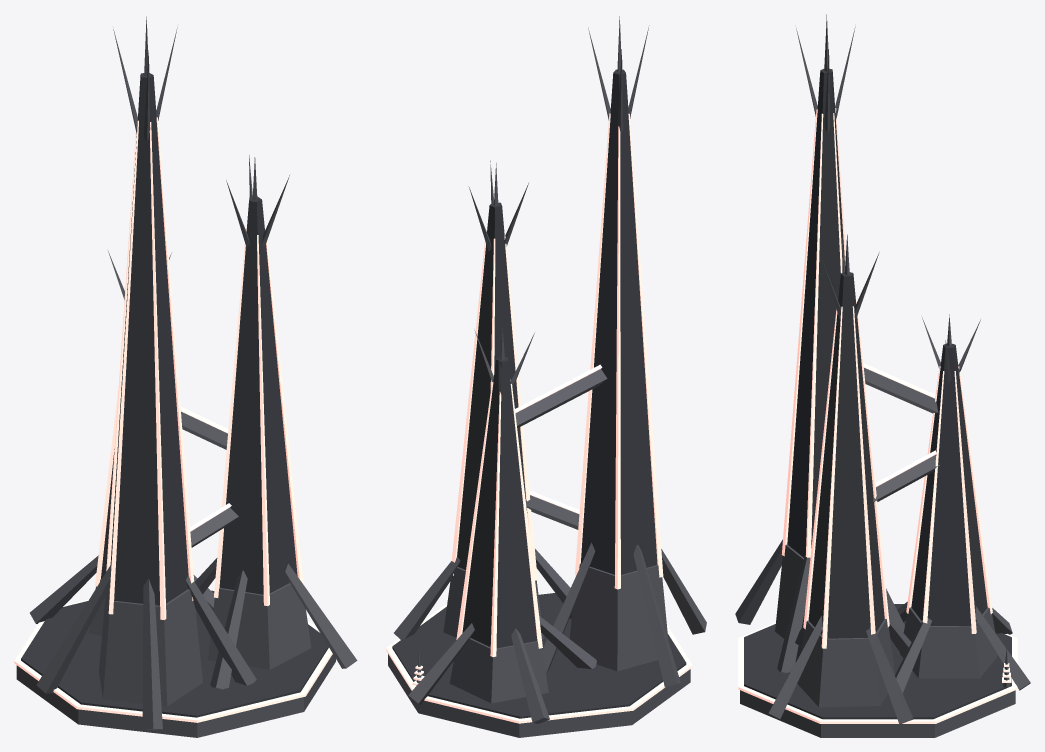
File: zone_high_2_t4.glb
3 views of the same model, side by side, from view 1: azimuth 30°, elevation 25°; view 2: azimuth 150°, elevation 25°; view 3: azimuth 270°, elevation 25° (orthographic). The views are drawn at different scales.
Parts seen in each view (by area): view 1: zone_high_2_t4; view 2: zone_high_2_t4, detail; view 3: zone_high_2_t4, detail.
Part boxes in pixels (x1,y1,x2,y2): zone_high_2_t4: [14, 16, 357, 737]; zone_high_2_t4: [386, 16, 706, 737]; detail: [412, 364, 602, 685]; zone_high_2_t4: [735, 14, 1030, 737]; detail: [863, 363, 1011, 687].
Bounding box in the file's own units: 29.18 × 69.08 × 28.92.
